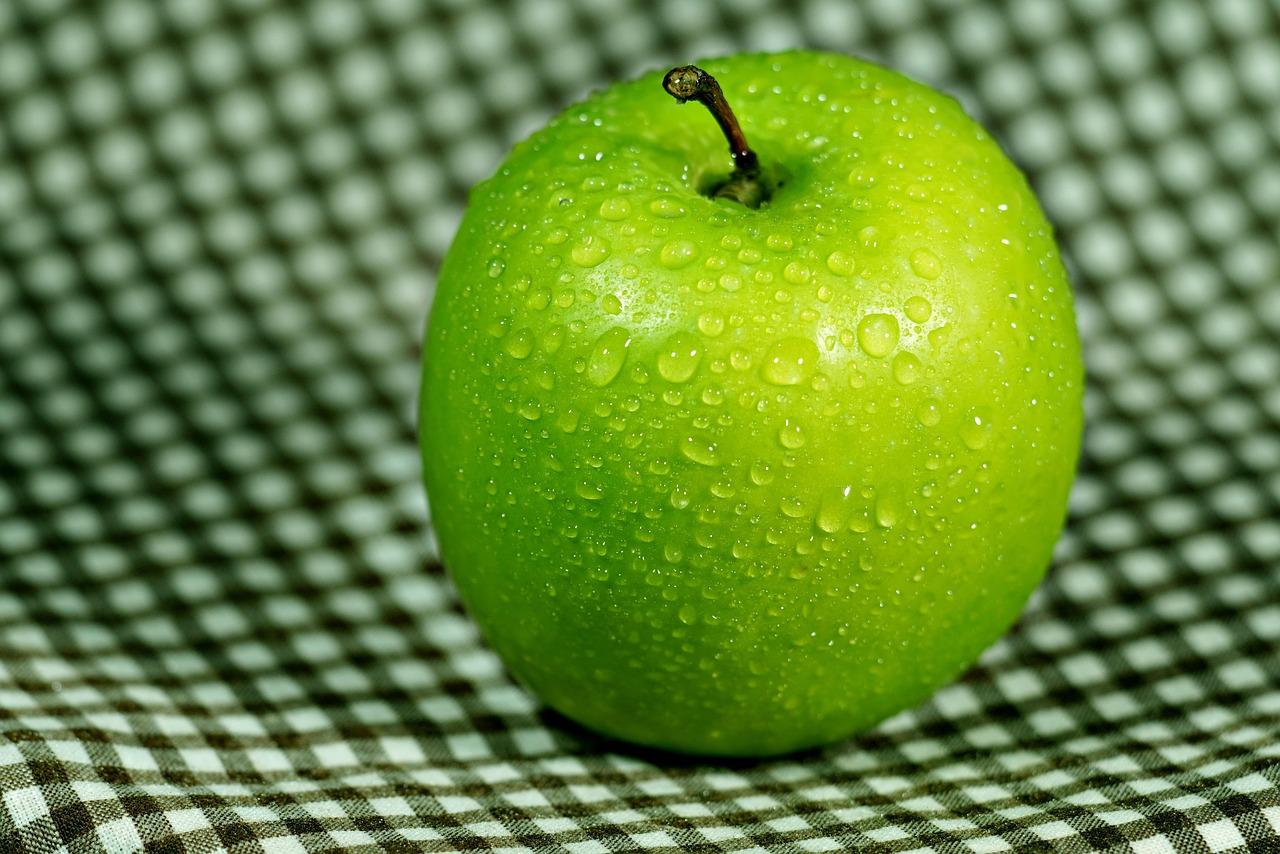non-mango: (415, 47, 1087, 759)
